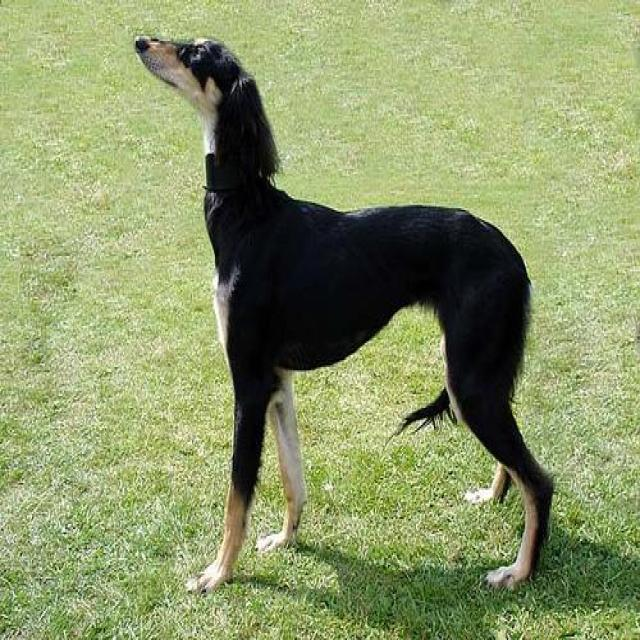saluki: (133, 34, 558, 594)
